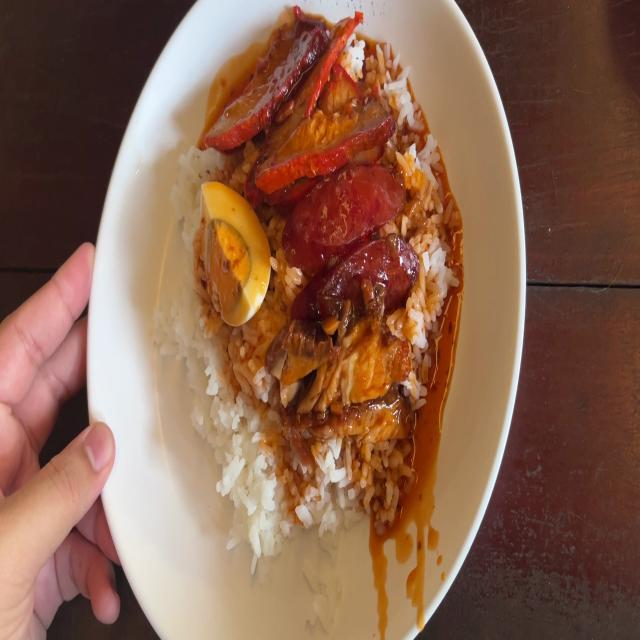01boiled_egg: (203, 185, 266, 322)
01chainese_sausage: (292, 172, 418, 314)
01crispy_pork: (274, 328, 413, 441)
01red_pork: (213, 32, 384, 168)
01red_pork_and_crispy_pork: (180, 21, 439, 513)
01rice: (191, 330, 267, 504), (238, 436, 355, 544)
